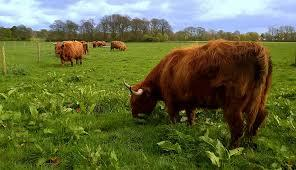cow: (130, 41, 272, 149), (55, 41, 84, 64), (110, 41, 127, 51)
